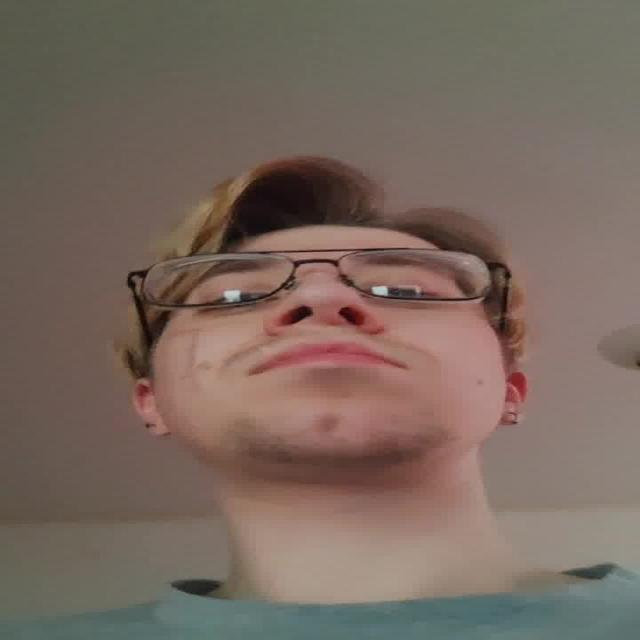earlobe: (52, 350, 97, 410), (497, 366, 536, 426)
